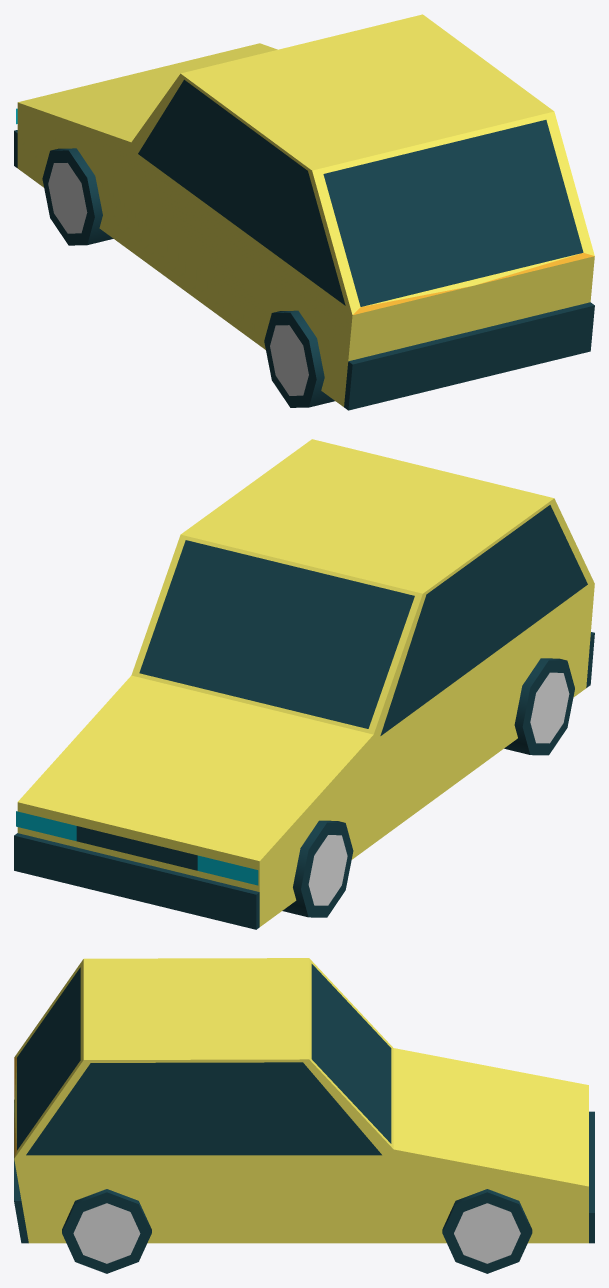
The model's file is generic_car.fbx.
The picture shows the model from 3 angles, top to bottom: view 1: azimuth 30°, elevation 25°; view 2: azimuth 150°, elevation 25°; view 3: azimuth 270°, elevation 25°; orthographic projection. The views are drawn at different scales.
Visible parts, largest first — view 1: generic_car; view 2: generic_car; view 3: generic_car.
Part boxes in pixels (bbox=[...]): generic_car: bbox=[14, 14, 594, 410]; generic_car: bbox=[14, 439, 594, 929]; generic_car: bbox=[14, 958, 594, 1273].
Size of the model in its own units: 1.97 by 1.78 by 4.44.
